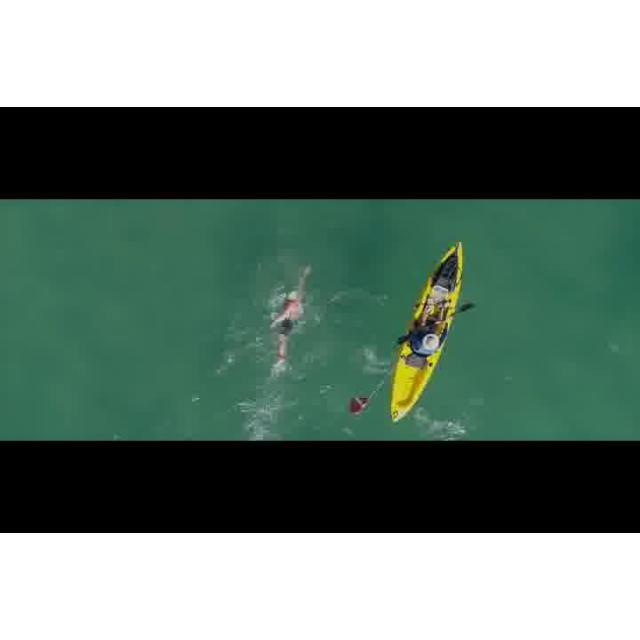human: (268, 263, 313, 375)
